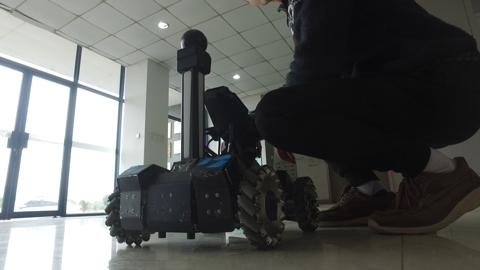chariot: (88, 26, 329, 253)
